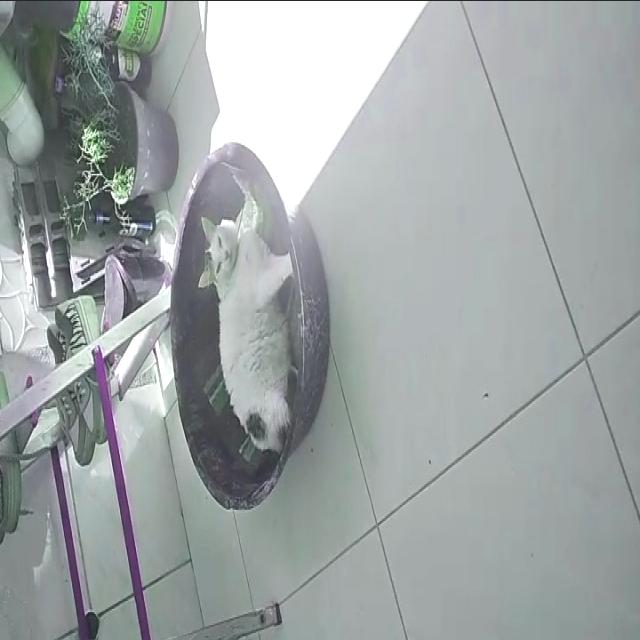Simba: (186, 162, 292, 452)
